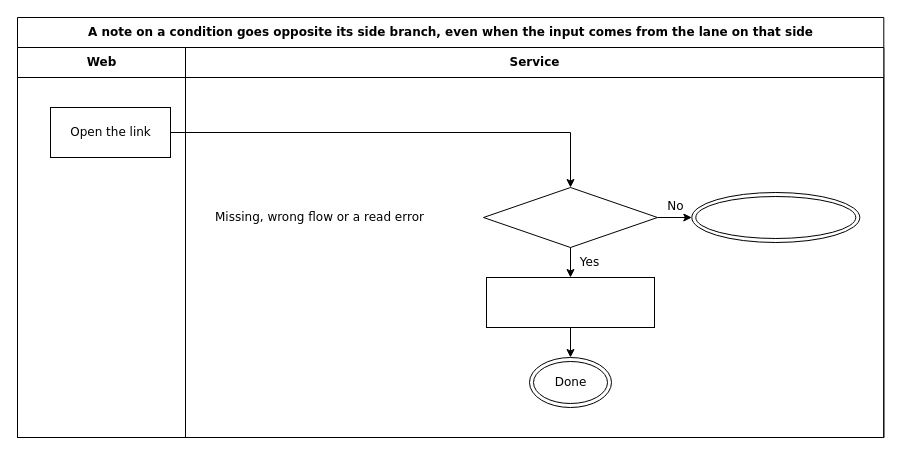
This 902x455 diagram has some shape labels left out. Here are the shapes that lost their labels. From the top down, the centre of each, then its label:
pixel 570 217: Payment found?
pixel 775 217: Not found page
pixel 570 302: Continue the payment
